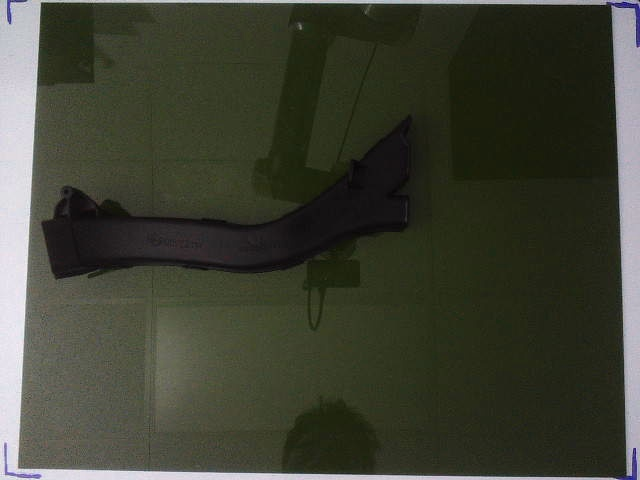887_A-Top: (42, 114, 415, 280)
